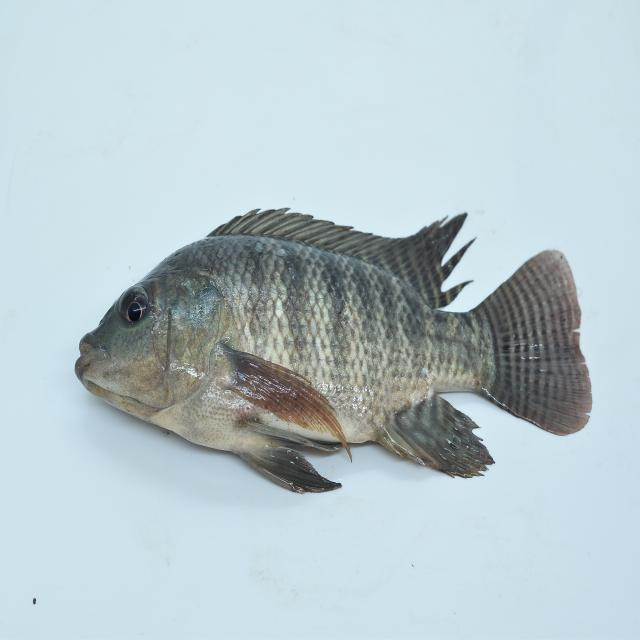Healthy Fish: (70, 203, 596, 495)
